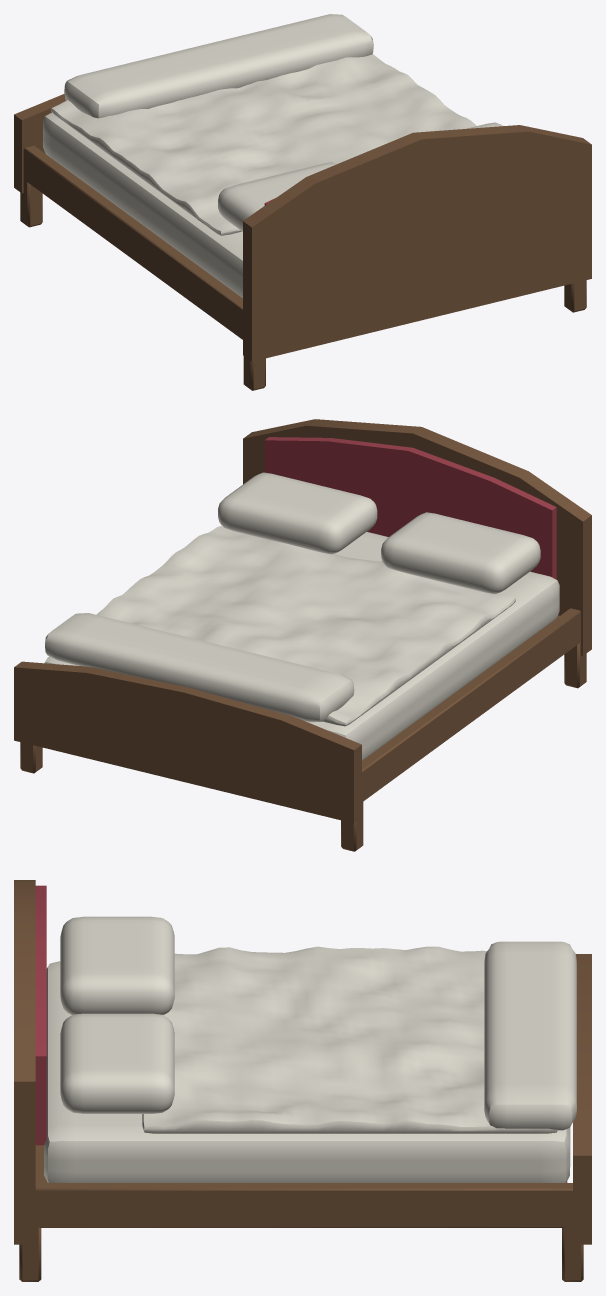
Rendered from arr_letto.fbx.
3 renders of one model, top to bottom at view 1: azimuth 30°, elevation 25°; view 2: azimuth 150°, elevation 25°; view 3: azimuth 270°, elevation 25°, orthographic. The views are drawn at different scales.
Visible parts, largest first — view 1: arr_letto_noce, arr_letto_lenzuolo; view 2: arr_letto_lenzuolo, arr_letto_noce, arr_letto_tessuto; view 3: arr_letto_lenzuolo, arr_letto_noce, arr_letto_tessuto.
Boxes of the visible parts, box(x1,y1,x2,y2) form: arr_letto_noce: box(14, 94, 591, 390); arr_letto_lenzuolo: box(43, 14, 502, 297); arr_letto_lenzuolo: box(44, 472, 559, 760); arr_letto_noce: box(14, 419, 591, 851); arr_letto_tessuto: box(264, 437, 556, 579); arr_letto_lenzuolo: box(44, 916, 576, 1182); arr_letto_noce: box(14, 880, 591, 1281); arr_letto_tessuto: box(35, 885, 46, 1145).
Size of the model in its own units: 1.75 by 1.05 by 2.12.
